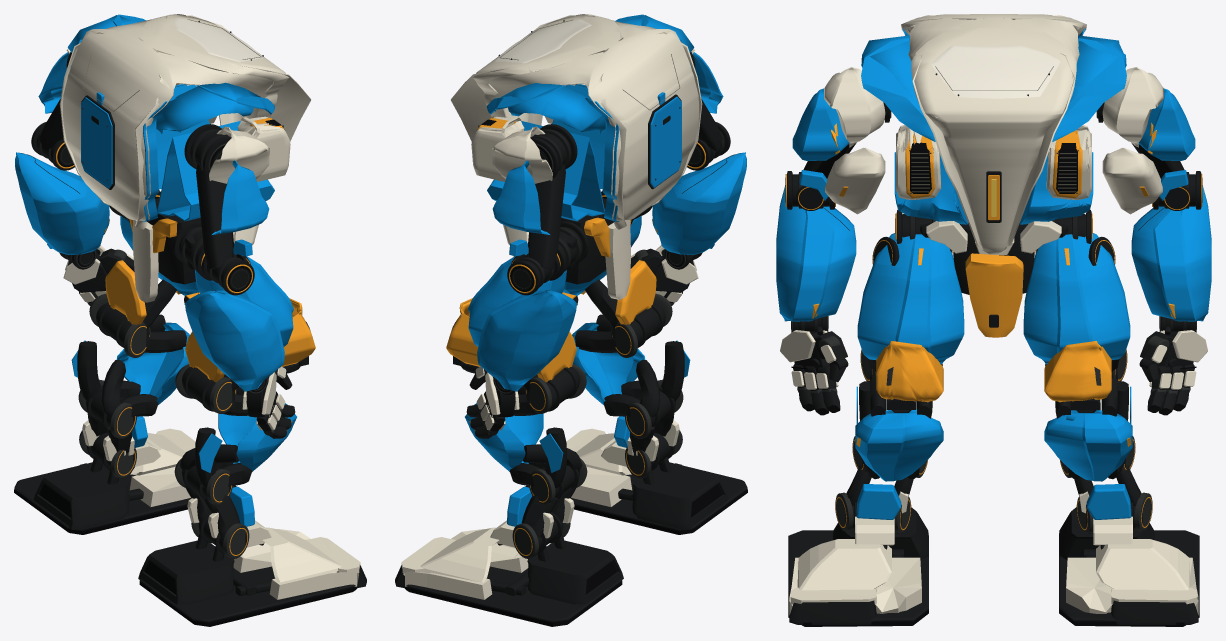
File: appearance_c.glb
3 renders of one model, left to right at view 1: azimuth 30°, elevation 25°; view 2: azimuth 150°, elevation 25°; view 3: azimuth 270°, elevation 25°, orthographic. The views are drawn at different scales.
Visible parts, largest first — view 1: continuous_ivory_torso_armor_cover, right_blue_forearm_wrap, left_blue_forearm_wrap, right_ivory_hood_window_side_lip, left_black_clipped_tall_heel, right_black_clipped_tall_heel, right_blue_chest_cheek_wrap, right_ivory_artwork_sloping_toe, right_blue_continuous_shoulder_sweep, right_graphite_sole_upper_band, left_blue_middle_shank_wrap, right_blue_deltoid_wrap (+49 smaller); view 2: continuous_ivory_torso_armor_cover, left_blue_forearm_wrap, right_blue_forearm_wrap, left_ivory_hood_window_side_lip, right_black_clipped_tall_heel, left_black_clipped_tall_heel, left_blue_chest_cheek_wrap, left_ivory_artwork_sloping_toe, left_blue_continuous_shoulder_sweep, left_graphite_sole_upper_band, right_blue_middle_shank_wrap, left_blue_deltoid_wrap (+49 smaller); view 3: continuous_ivory_torso_armor_cover, left_blue_thigh_wrap, right_blue_thigh_wrap, left_blue_forearm_wrap, right_blue_forearm_wrap, ivory_crown_inset, right_blue_middle_shank_wrap, left_blue_middle_shank_wrap, left_ivory_artwork_sloping_toe, right_ivory_artwork_sloping_toe, saffron_front_pelvis_cartridge, left_yellow_front_knee_insert (+40 smaller).
Part boxes in pixels (box(x1,y1,x2,y2)): continuous_ivory_torso_armor_cover: box(63, 14, 288, 220); right_blue_forearm_wrap: box(185, 290, 284, 391); left_blue_forearm_wrap: box(15, 152, 109, 255); right_ivory_hood_window_side_lip: box(135, 51, 310, 229); left_black_clipped_tall_heel: box(33, 463, 129, 530); right_black_clipped_tall_heel: box(138, 540, 234, 604); right_blue_chest_cheek_wrap: box(157, 121, 274, 221); right_ivory_artwork_sloping_toe: box(242, 527, 341, 582); right_blue_continuous_shoulder_sweep: box(156, 82, 260, 133); right_graphite_sole_upper_band: box(139, 566, 355, 621); left_blue_middle_shank_wrap: box(116, 322, 189, 404); right_blue_deltoid_wrap: box(211, 160, 269, 235); continuous_ivory_torso_armor_cover: box(473, 14, 698, 220); left_blue_forearm_wrap: box(477, 290, 576, 391); right_blue_forearm_wrap: box(652, 152, 746, 255); left_ivory_hood_window_side_lip: box(451, 51, 626, 229); right_black_clipped_tall_heel: box(632, 463, 728, 529); left_black_clipped_tall_heel: box(527, 540, 623, 604); left_blue_chest_cheek_wrap: box(487, 121, 604, 221); left_ivory_artwork_sloping_toe: box(420, 527, 519, 582); left_blue_continuous_shoulder_sweep: box(501, 83, 605, 133); left_graphite_sole_upper_band: box(406, 566, 622, 621); right_blue_middle_shank_wrap: box(572, 322, 645, 404); left_blue_deltoid_wrap: box(492, 160, 550, 235); continuous_ivory_torso_armor_cover: box(901, 14, 1086, 254); left_blue_thigh_wrap: box(1023, 233, 1130, 364); right_blue_thigh_wrap: box(857, 233, 964, 364); left_blue_forearm_wrap: box(1131, 185, 1211, 321); right_blue_forearm_wrap: box(776, 185, 856, 321); ivory_crown_inset: box(931, 45, 1060, 98); right_blue_middle_shank_wrap: box(855, 409, 943, 481); left_blue_middle_shank_wrap: box(1044, 410, 1132, 481); left_ivory_artwork_sloping_toe: box(1096, 539, 1190, 590); right_ivory_artwork_sloping_toe: box(797, 539, 891, 590); saffron_front_pelvis_cartridge: box(965, 253, 1023, 337); left_yellow_front_knee_insert: box(1044, 341, 1111, 402).
Size of the model in its own units: 1.07 by 2.65 by 1.93.
